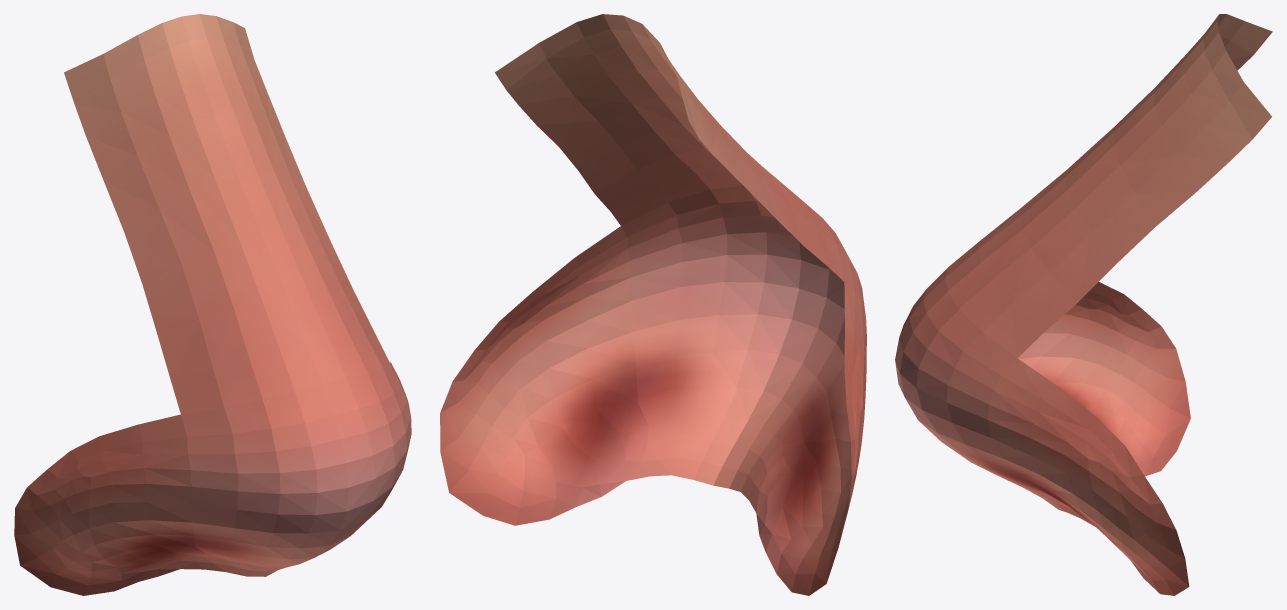
File: euro-fem-nose-bridge-short.obj
3 views of the same model, side by side, from view 1: azimuth 30°, elevation 25°; view 2: azimuth 150°, elevation 25°; view 3: azimuth 270°, elevation 25° (orthographic). The views are drawn at different scales.
Parts seen in each view (by area): view 1: euro-fem-nose-bridge-short.008; view 2: euro-fem-nose-bridge-short.008; view 3: euro-fem-nose-bridge-short.008.
Part boxes in pixels (<box>): euro-fem-nose-bridge-short.008: <box>14,14,411,595</box>; euro-fem-nose-bridge-short.008: <box>440,14,866,595</box>; euro-fem-nose-bridge-short.008: <box>895,14,1272,595</box>.
Size of the model in its own units: 0.162 by 0.2153 by 0.144.
Materials: 1 (1 with a texture image).
